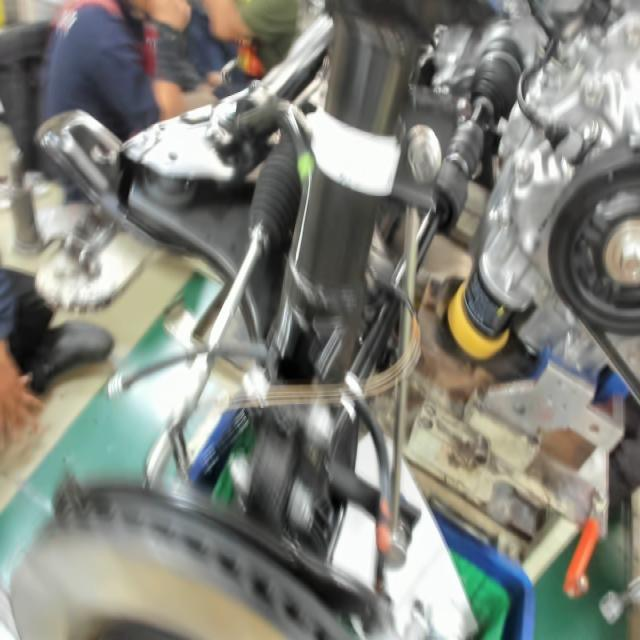Bar Stabilizer-HJ: (290, 146, 318, 182)
